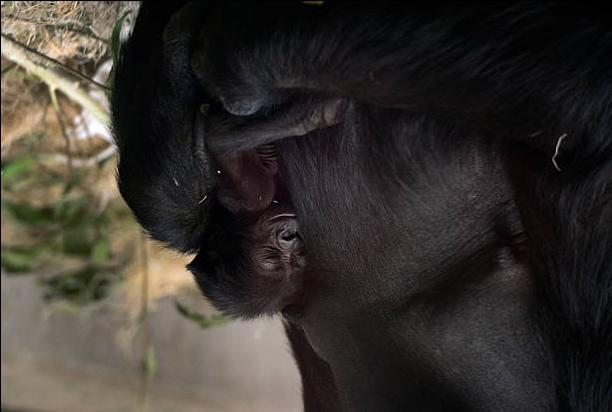gorille_Autres: (152, 85, 316, 338)
